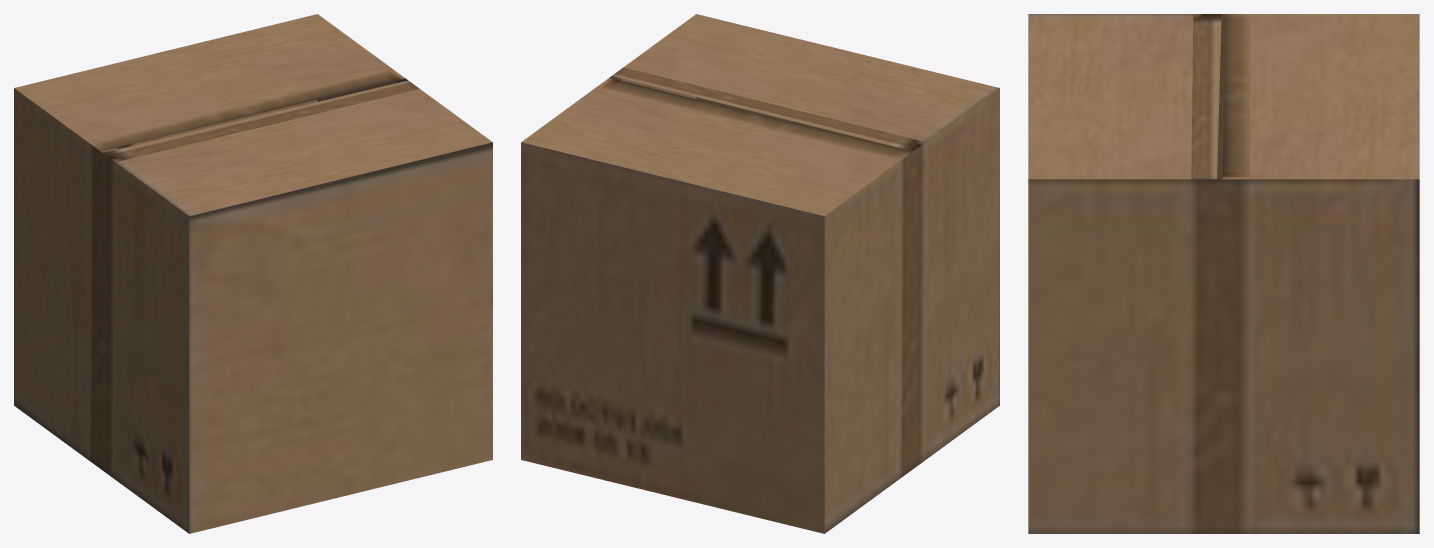
The model's file is cajacarton.glb.
3 renders of one model, left to right at view 1: azimuth 30°, elevation 25°; view 2: azimuth 150°, elevation 25°; view 3: azimuth 270°, elevation 25°, orthographic. The views are drawn at different scales.
Visible parts, largest first — view 1: Cube; view 2: Cube; view 3: Cube.
Boxes of the visible parts, x1,y1,x2,y2 form: Cube: (14,14,492,533); Cube: (521,14,999,533); Cube: (1028,14,1419,533).
Bounding box in the file's own units: 2 × 2 × 2.
1 material, 1 textured.
